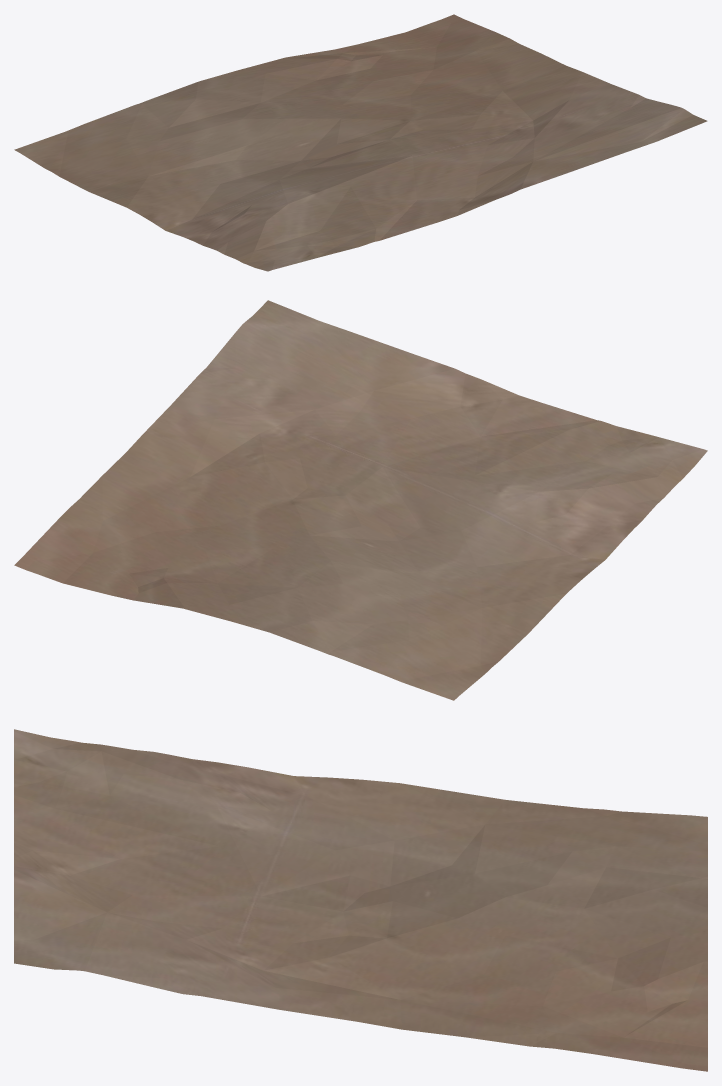
3 views of the same model, one above another, from view 1: azimuth 30°, elevation 25°; view 2: azimuth 150°, elevation 25°; view 3: azimuth 270°, elevation 25° (orthographic). The views are drawn at different scales.
Size of the model in its own units: 1.04 by 0.2436 by 1.04.
Materials: 2 (2 with a texture image).
